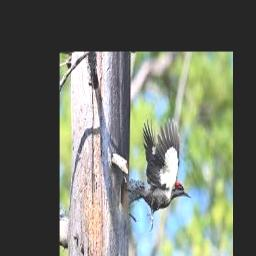Woodpecker: (125, 118, 192, 231)
